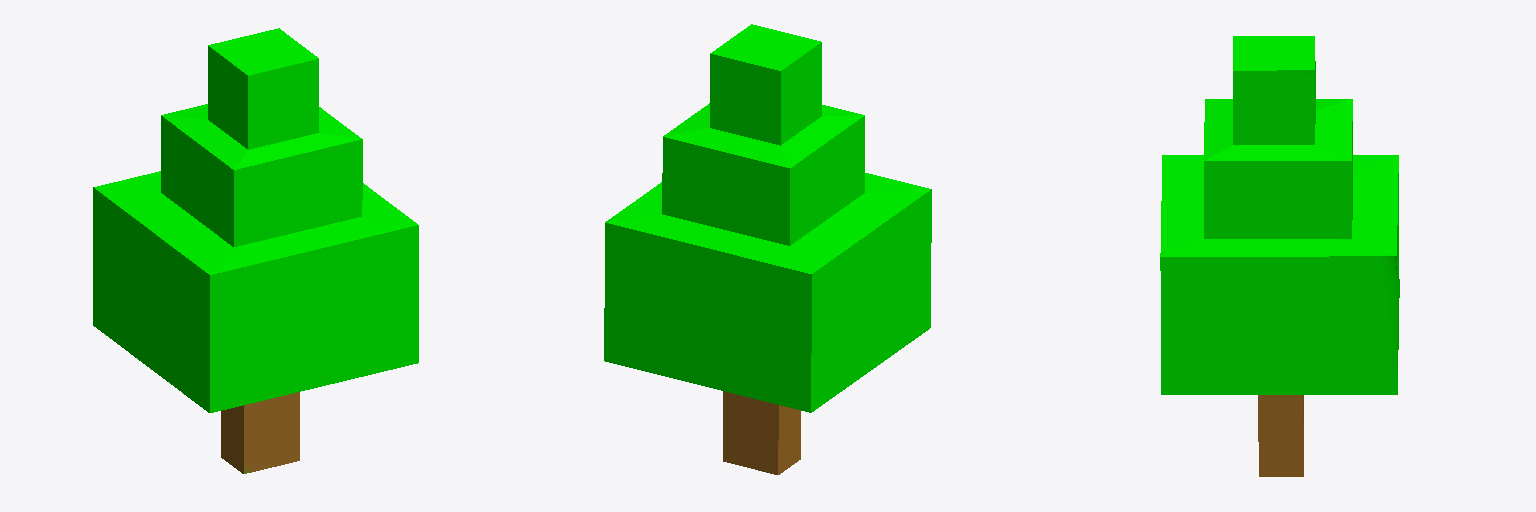
3 renders of one model, left to right at view 1: azimuth 30°, elevation 25°; view 2: azimuth 150°, elevation 25°; view 3: azimuth 270°, elevation 25°, orthographic.
Parts seen in each view (by area): view 1: 立方体.001_立方体.009; view 2: 立方体.001_立方体.009; view 3: 立方体.001_立方体.009.
Part boxes in pixels (left/top/right/bottom): 立方体.001_立方体.009: left=93, top=28, right=418, bottom=473; 立方体.001_立方体.009: left=604, top=24, right=931, bottom=474; 立方体.001_立方体.009: left=1160, top=36, right=1399, bottom=476.
Size of the model in its own units: 2.02 by 3.78 by 1.99.
Materials: 1 (1 with a texture image).